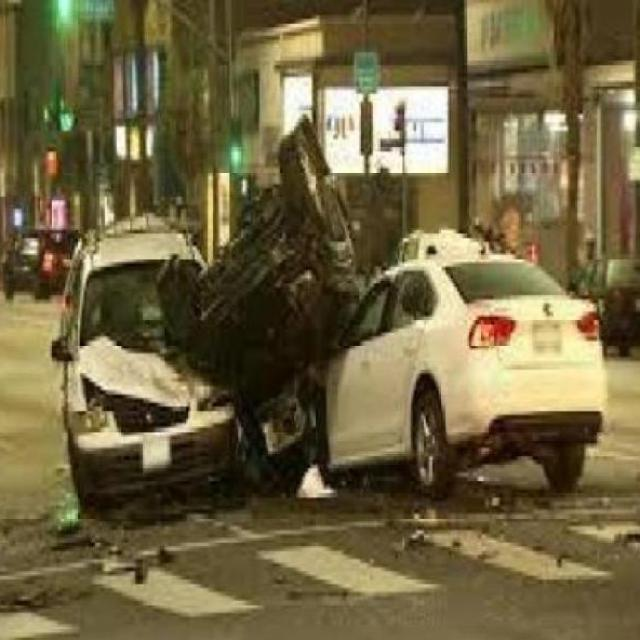accident: (62, 115, 606, 512)
